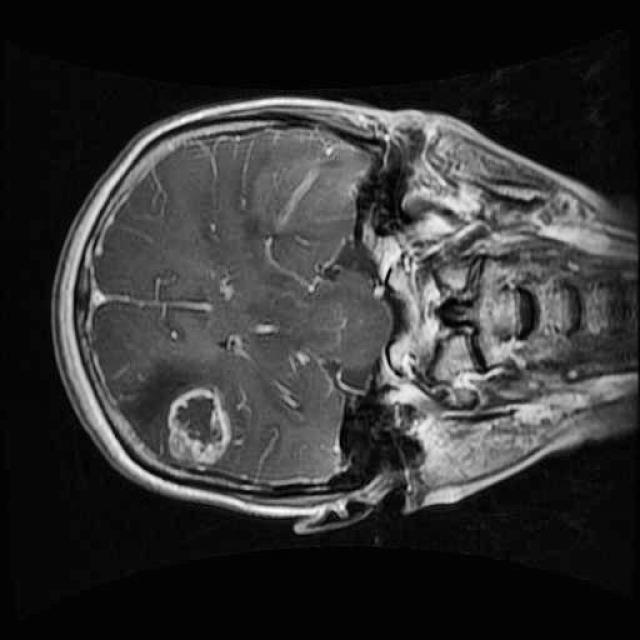Non-Tumor: (155, 376, 243, 479)
